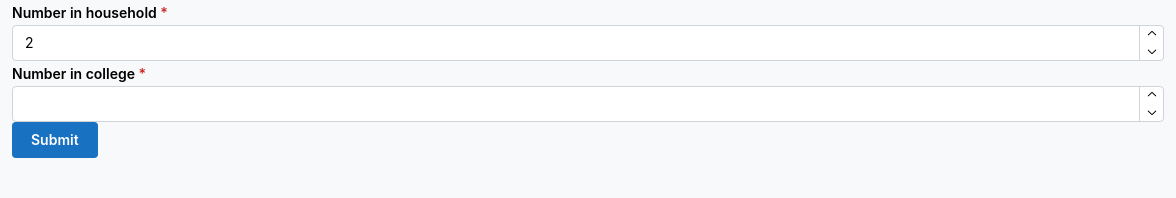
Test case: ControlledNumberInput › reports the household rule against the number in college
Type "5" into the field labelled "Number in college *" at (588,104), box [12,86,1164,122]
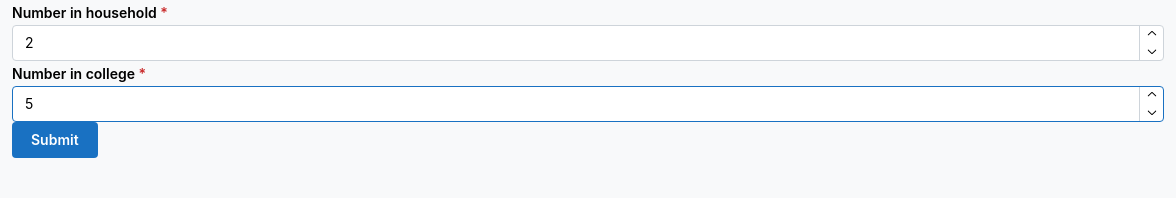
Press Tab
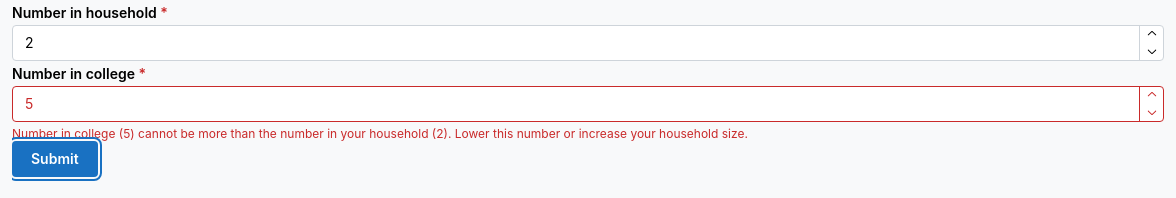
Result: the text "Number in college (5)" shows "household (2)" at [12,126,748,141]
Result: the text "Number in college (5)" shows "lower this number or increase your household size" at [12,126,748,141]
